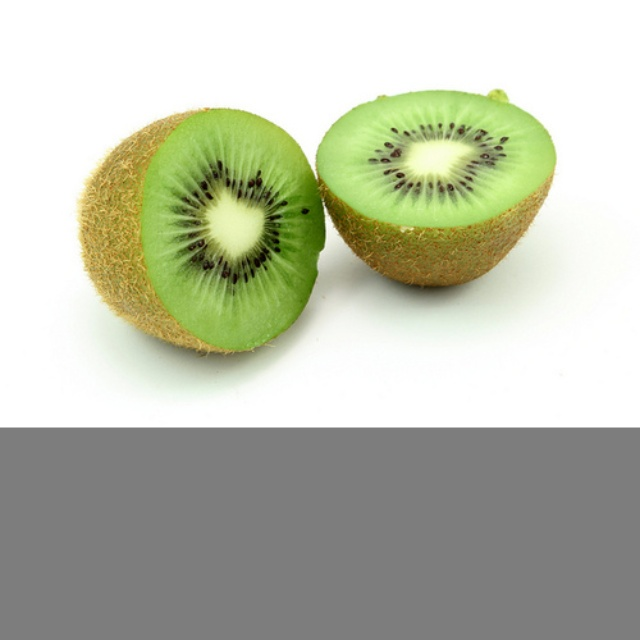kiwi: (80, 101, 326, 351), (318, 94, 565, 299)
